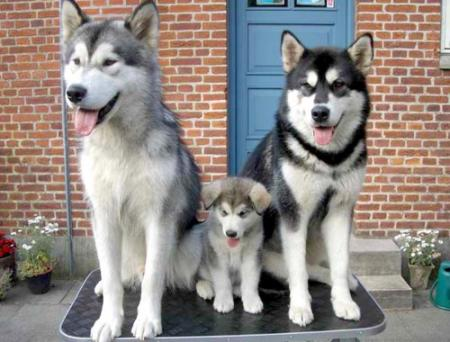husky: (262, 20, 397, 164), (53, 3, 175, 155), (191, 177, 284, 310)
